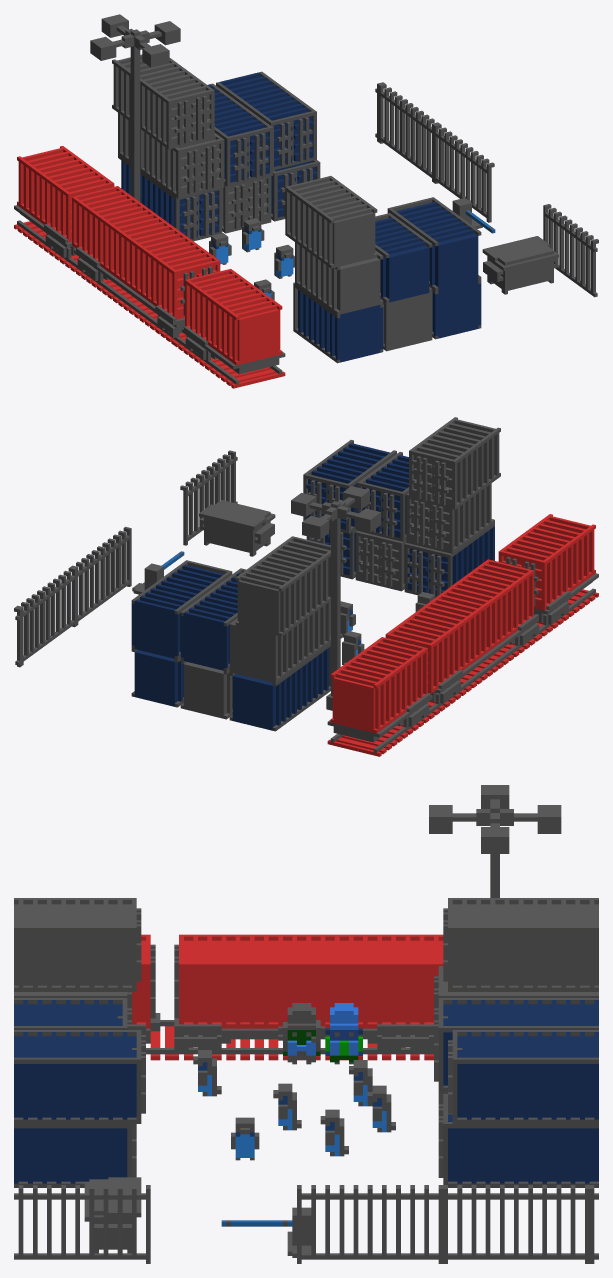
The model's file is scene_depot2.obj.
The picture shows the model from 3 angles, top to bottom: view 1: azimuth 30°, elevation 25°; view 2: azimuth 150°, elevation 25°; view 3: azimuth 270°, elevation 25°; orthographic projection. The views are drawn at different scales.
Bounding box in the file's own units: 120 × 64 × 124.
